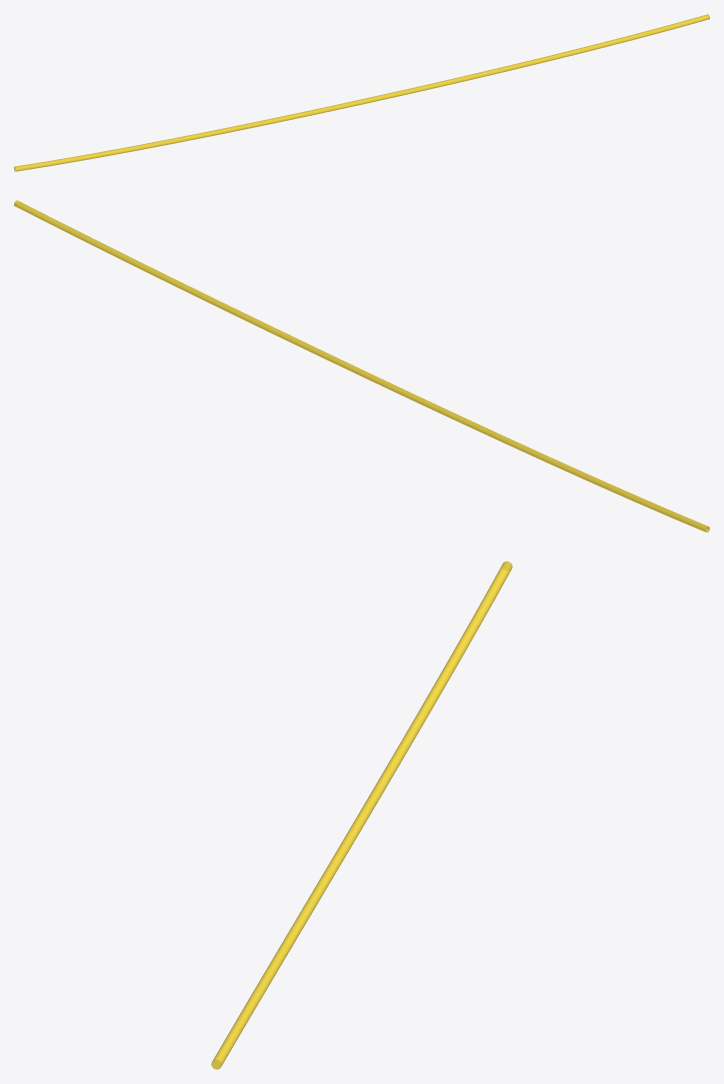
The model's file is Event_17758602_track_107.fbx.
3 renders of one model, top to bottom at view 1: azimuth 30°, elevation 25°; view 2: azimuth 150°, elevation 25°; view 3: azimuth 270°, elevation 25°, orthographic. The views are drawn at different scales.
Visible parts, largest first — view 1: Model; view 2: Model; view 3: Model.
Boxes of the visible parts, bbox=[...] form: Model: bbox=[14, 14, 709, 171]; Model: bbox=[14, 200, 709, 532]; Model: bbox=[211, 561, 512, 1069].
Size of the model in its own units: 5.43 by 0.4906 by 1.14.
